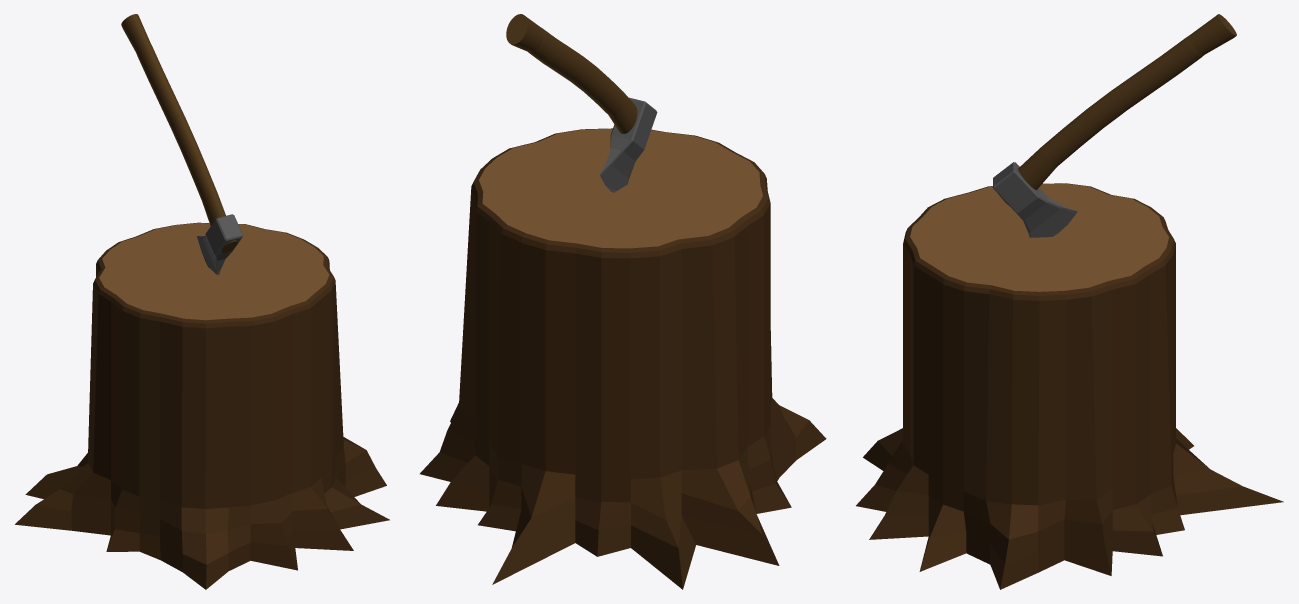
Rendered from Chopblock.fbx.
3 views of the same model, side by side, from view 1: azimuth 30°, elevation 25°; view 2: azimuth 150°, elevation 25°; view 3: azimuth 270°, elevation 25° (orthographic). The views are drawn at different scales.
Parts seen in each view (by area): view 1: Stump, Crunch, Grip, Head; view 2: Stump, Crunch, Grip, Head; view 3: Stump, Crunch, Grip, Head.
Part boxes in pixels (x1,y1,x2,y2): Stump: [15, 222, 389, 589]; Crunch: [99, 223, 329, 320]; Grip: [121, 14, 237, 253]; Head: [197, 214, 243, 274]; Stump: [420, 128, 826, 589]; Crunch: [479, 128, 762, 248]; Grip: [506, 14, 637, 133]; Head: [600, 97, 657, 192]; Stump: [856, 183, 1283, 589]; Crunch: [910, 183, 1168, 291]; Grip: [998, 14, 1236, 205]; Head: [993, 162, 1077, 237].
Size of the model in its own units: 90.81 by 120 by 94.36.
